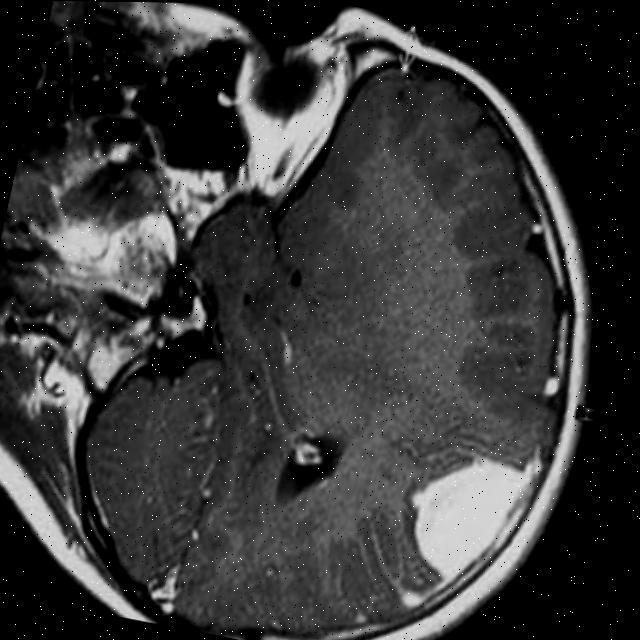Meningioma: (372, 426, 552, 631)
